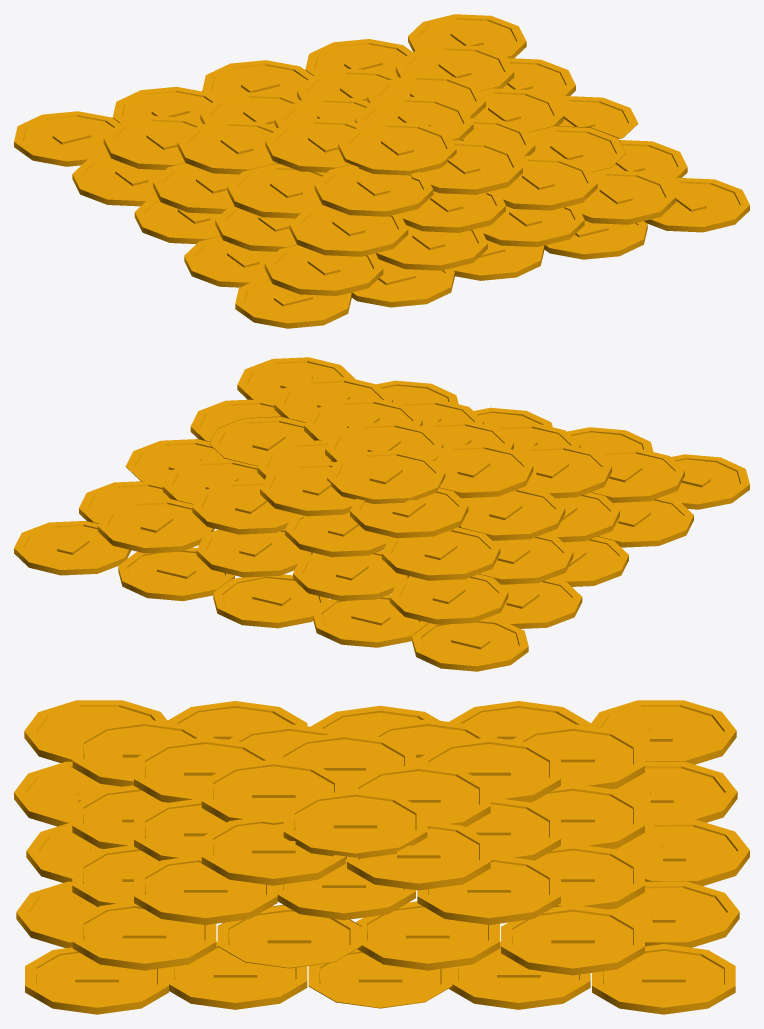
Rendered from CoinMountain.FBX.
3 renders of one model, top to bottom at view 1: azimuth 30°, elevation 25°; view 2: azimuth 150°, elevation 25°; view 3: azimuth 270°, elevation 25°, orthographic. The views are drawn at different scales.
Parts seen in each view (by area): view 1: Cylinder083; view 2: Cylinder083; view 3: Cylinder083.
Boxes of the visible parts, x1=… form: Cylinder083: x1=14, y1=14, x2=749, y2=328; Cylinder083: x1=14, y1=357, x2=749, y2=671; Cylinder083: x1=14, y1=700, x2=749, y2=1014.
Size of the model in its own units: 0.0962 by 0.00639 by 0.0973.
